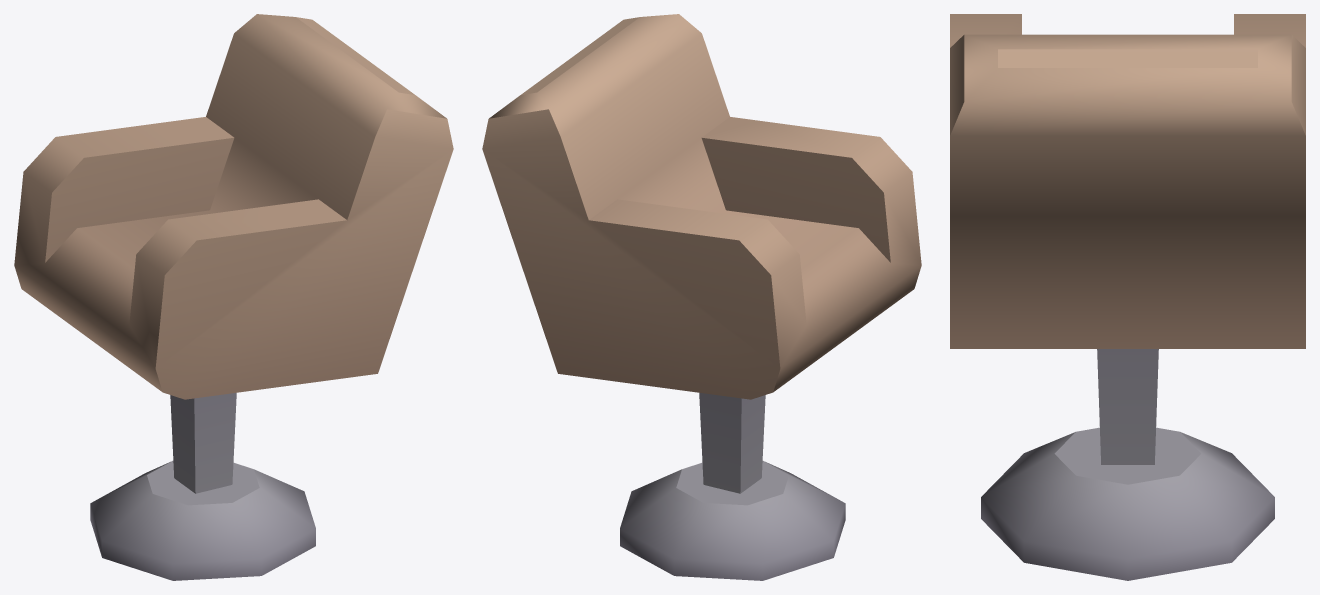
File: bar-chair-comfy.glb
3 renders of one model, left to right at view 1: azimuth 30°, elevation 25°; view 2: azimuth 150°, elevation 25°; view 3: azimuth 270°, elevation 25°, orthographic. The views are drawn at different scales.
Visible parts, largest first — view 1: bar-chair-comfy; view 2: bar-chair-comfy; view 3: bar-chair-comfy.
Part boxes in pixels (x1,y1,x2,y2): bar-chair-comfy: (14,14,453,580); bar-chair-comfy: (482,14,921,580); bar-chair-comfy: (950,14,1305,580).
Bounding box in the file's own units: 0.452 × 0.6425 × 0.3711.
